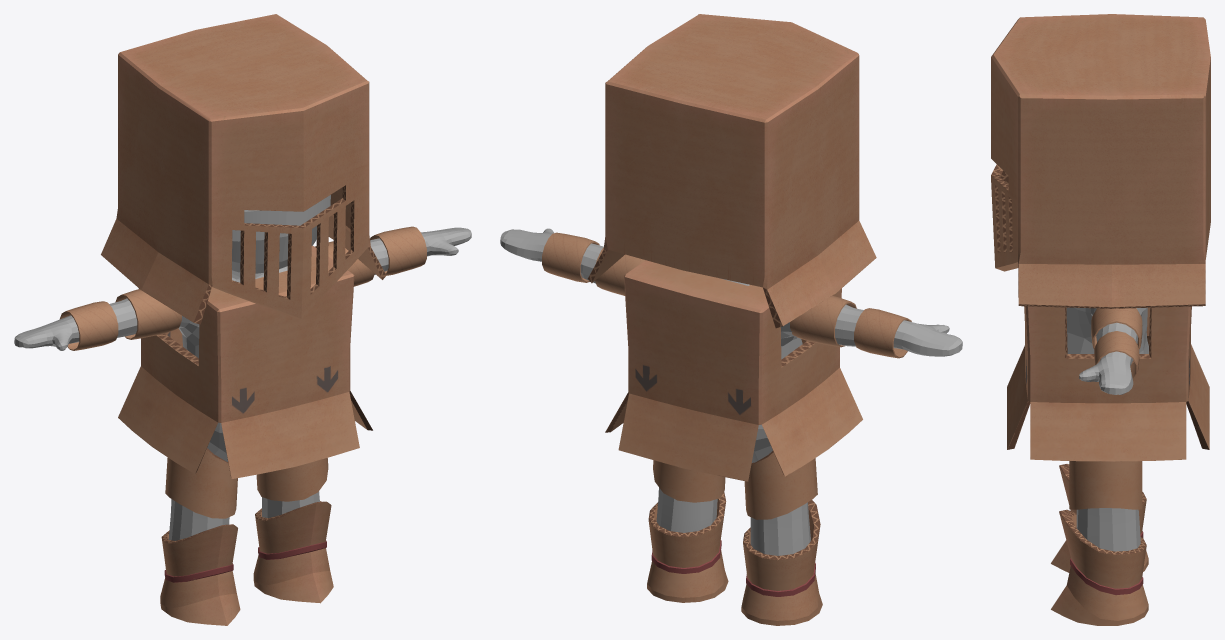
The model's file is Obj_PlayerCharacter.fbx.
3 renders of one model, left to right at view 1: azimuth 30°, elevation 25°; view 2: azimuth 150°, elevation 25°; view 3: azimuth 270°, elevation 25°, orthographic.
Visible parts, largest first — view 1: Obj_Helmet_00, Obj_Body_00, Character_Body_Low, Obj_RightFoot_00, Obj_LeftFoot_00, Obj_RightThigh_00, Obj_LeftThigh_00, Obj_RightWrist_00, Obj_RightShoulder_00, Obj_LeftWrist_00; view 2: Obj_Helmet_00, Obj_Body_00, Character_Body_Low, Obj_RightFoot_00, Obj_LeftFoot_00, Obj_RightThigh_00, Obj_LeftThigh_00, Obj_RightWrist_00, Obj_LeftWrist_00, Obj_RightShoulder_00, Obj_LeftShoulder_00; view 3: Obj_Helmet_00, Obj_Body_00, Obj_LeftFoot_00, Character_Body_Low, Obj_LeftThigh_00, Obj_LeftShoulder_00, Obj_LeftWrist_00, Obj_RightFoot_00.
Part boxes in pixels (x1=…): Obj_Helmet_00: x1=101, y1=14, x2=386, y2=324; Obj_Body_00: x1=118, y1=245, x2=372, y2=478; Character_Body_Low: x1=14, y1=195, x2=471, y2=540; Obj_RightFoot_00: x1=160, y1=524, x2=240, y2=625; Obj_LeftFoot_00: x1=253, y1=501, x2=333, y2=603; Obj_RightThigh_00: x1=165, y1=448, x2=237, y2=518; Obj_LeftThigh_00: x1=256, y1=458, x2=328, y2=501; Obj_RightWrist_00: x1=60, y1=301, x2=118, y2=350; Obj_RightShoulder_00: x1=115, y1=289, x2=181, y2=339; Obj_LeftWrist_00: x1=370, y1=226, x2=426, y2=275; Obj_Helmet_00: x1=587, y1=14, x2=876, y2=328; Obj_Body_00: x1=605, y1=260, x2=862, y2=481; Character_Body_Low: x1=500, y1=228, x2=962, y2=555; Obj_RightFoot_00: x1=741, y1=500, x2=822, y2=625; Obj_LeftFoot_00: x1=647, y1=492, x2=728, y2=602; Obj_RightThigh_00: x1=744, y1=451, x2=817, y2=519; Obj_LeftThigh_00: x1=653, y1=460, x2=725, y2=502; Obj_RightWrist_00: x1=854, y1=308, x2=911, y2=358; Obj_LeftWrist_00: x1=542, y1=232, x2=599, y2=282; Obj_RightShoulder_00: x1=790, y1=295, x2=856, y2=347; Obj_LeftShoulder_00: x1=595, y1=247, x2=645, y2=295; Obj_Helmet_00: x1=991, y1=14, x2=1210, y2=308; Obj_Body_00: x1=1007, y1=306, x2=1209, y2=461; Obj_LeftFoot_00: x1=1051, y1=509, x2=1148, y2=625; Character_Body_Low: x1=1066, y1=307, x2=1148, y2=551; Obj_LeftThigh_00: x1=1069, y1=461, x2=1142, y2=509; Obj_LeftShoulder_00: x1=1091, y1=308, x2=1142, y2=349; Obj_LeftWrist_00: x1=1094, y1=331, x2=1139, y2=380; Obj_RightFoot_00: x1=1051, y1=464, x2=1148, y2=572.
Size of the model in its own units: 1.82 by 2.03 by 0.757.
